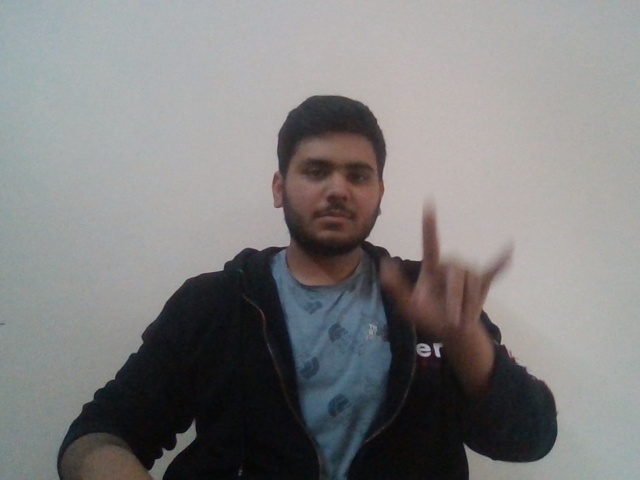IloveYou: (376, 201, 526, 341)
